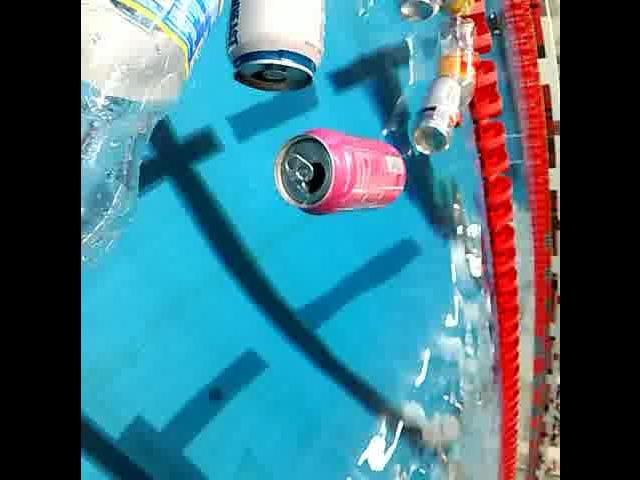Bottle: (80, 0, 235, 278)
Can: (266, 119, 411, 218), (226, 0, 331, 101), (409, 68, 463, 154), (395, 0, 437, 25)
